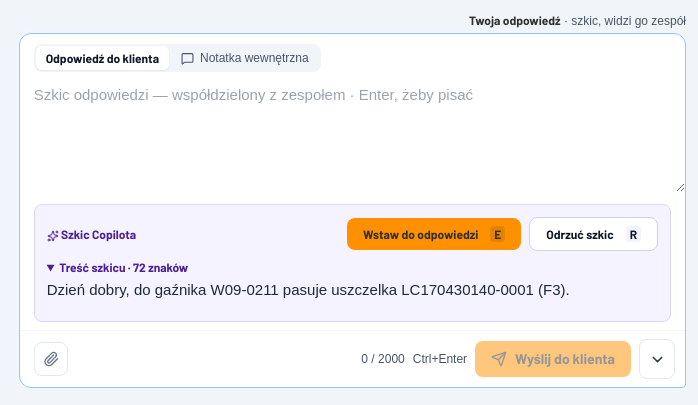
Test: Szkic Copilota w edytorze › w trybie komentarza nie ma ani przycisku, ani karty — szkic jest dla klienta
The width and height of the screenshot is (698, 405).
Click the button "Notatka wewnętrzna" at (245, 58), box [171,46,319,70]
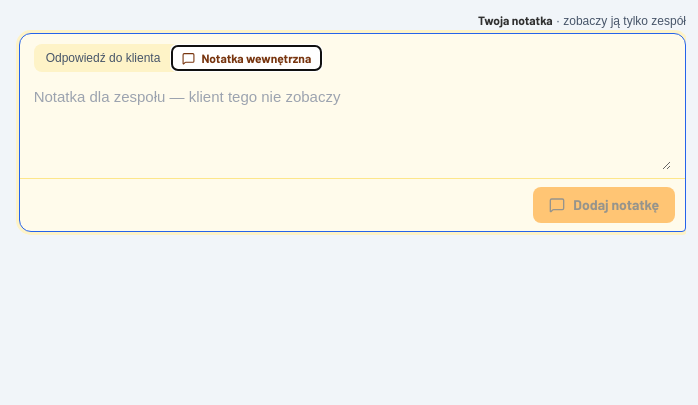
Expected: the element "Szkic Copilota" is gone
